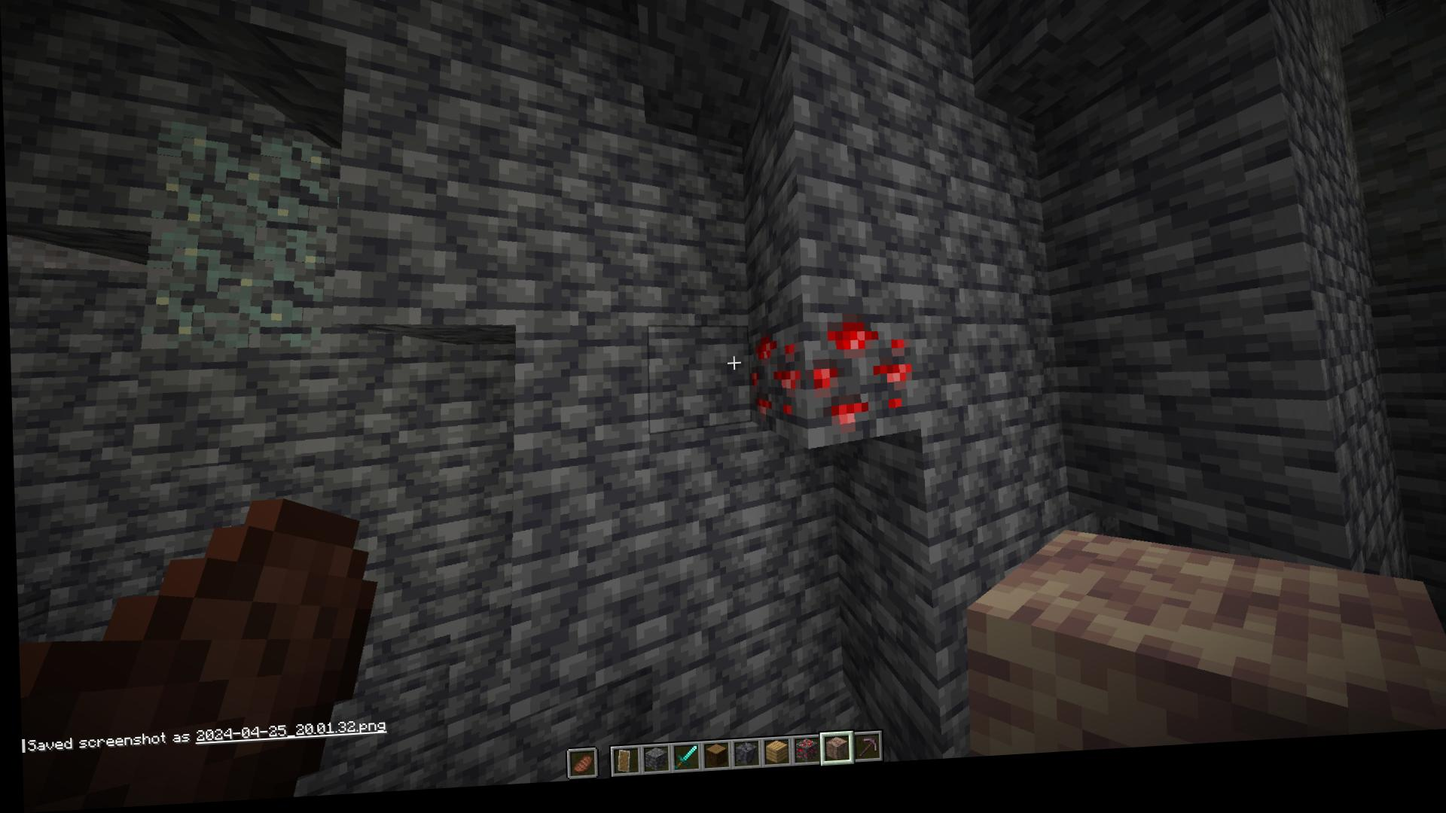redstone ore: (801, 323, 919, 452), (745, 339, 804, 443)
